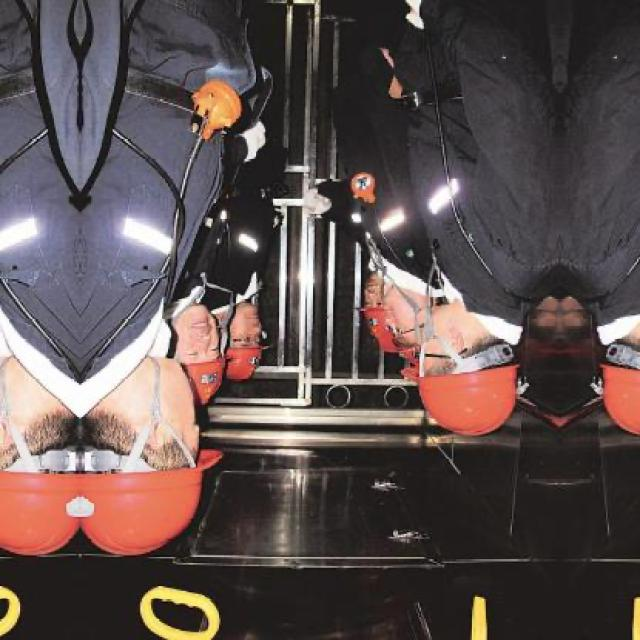con casco: (59, 390, 252, 560), (392, 332, 526, 462), (224, 295, 279, 401), (346, 279, 414, 362), (176, 334, 225, 412)
